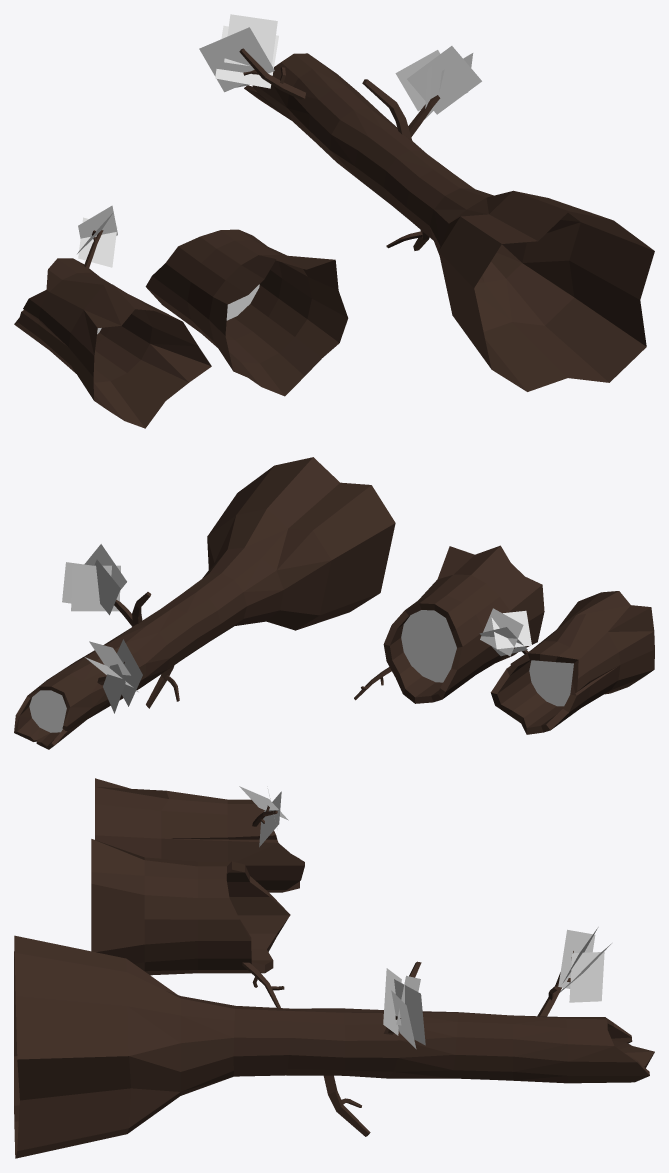
File: Tree Stumps.fbx
The picture shows the model from 3 angles, top to bottom: view 1: azimuth 30°, elevation 25°; view 2: azimuth 150°, elevation 25°; view 3: azimuth 270°, elevation 25°; orthographic projection. The views are drawn at different scales.
Visible parts, largest first — view 1: Stump 3, Stump 1, Stump 2; view 2: Stump 3, Stump 2, Stump 1; view 3: Stump 3, Stump 1, Stump 2.
Part boxes in pixels (bbox=[...]): Stump 3: bbox=[199, 14, 654, 391]; Stump 1: bbox=[145, 229, 348, 396]; Stump 2: bbox=[14, 205, 211, 428]; Stump 3: bbox=[14, 457, 395, 749]; Stump 2: bbox=[479, 591, 654, 734]; Stump 1: bbox=[354, 545, 544, 703]; Stump 3: bbox=[14, 927, 654, 1158]; Stump 1: bbox=[91, 839, 290, 1007]; Stump 2: bbox=[95, 778, 304, 892].
Size of the model in its own units: 1121 by 399 by 1144.
